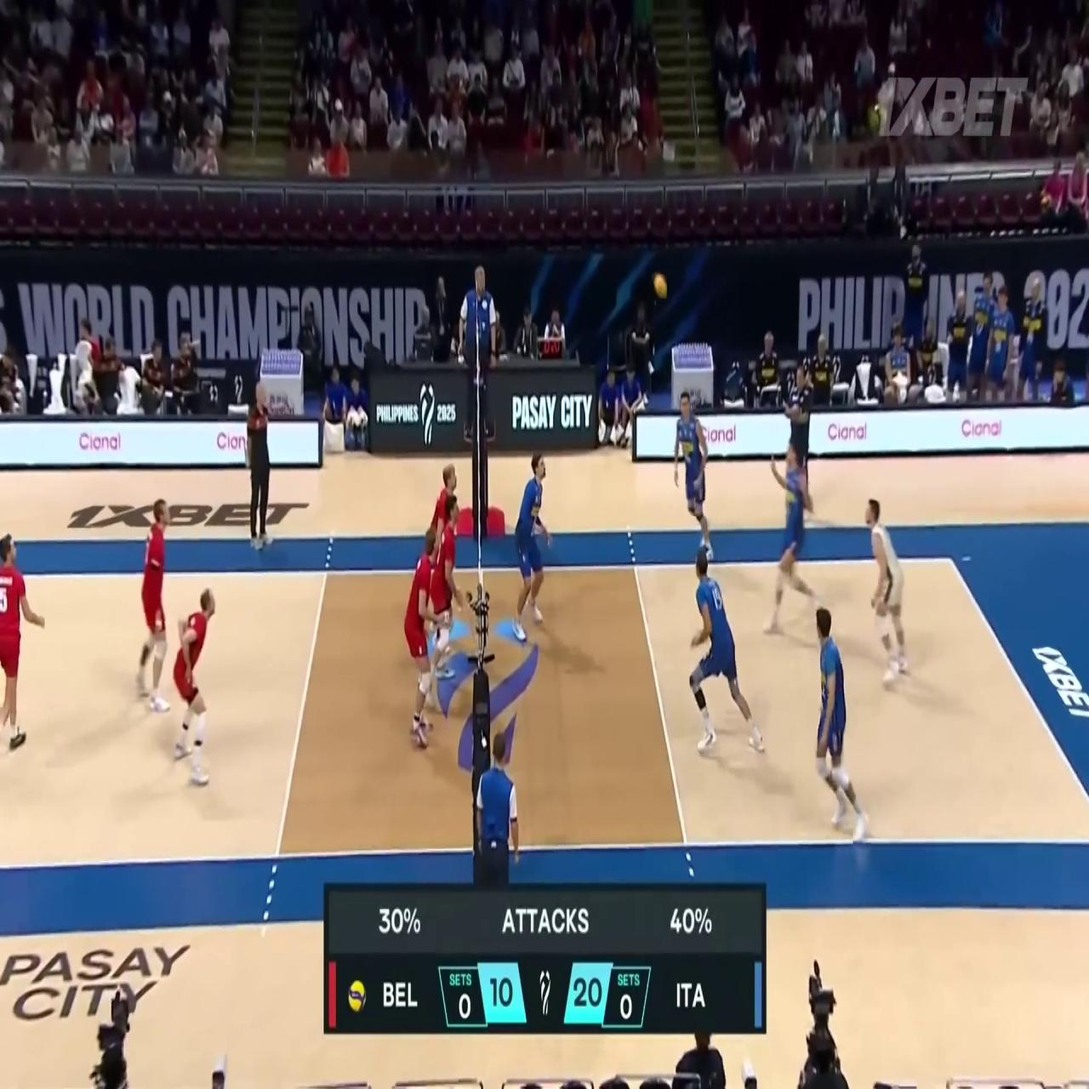ball: (654, 273, 668, 298)
